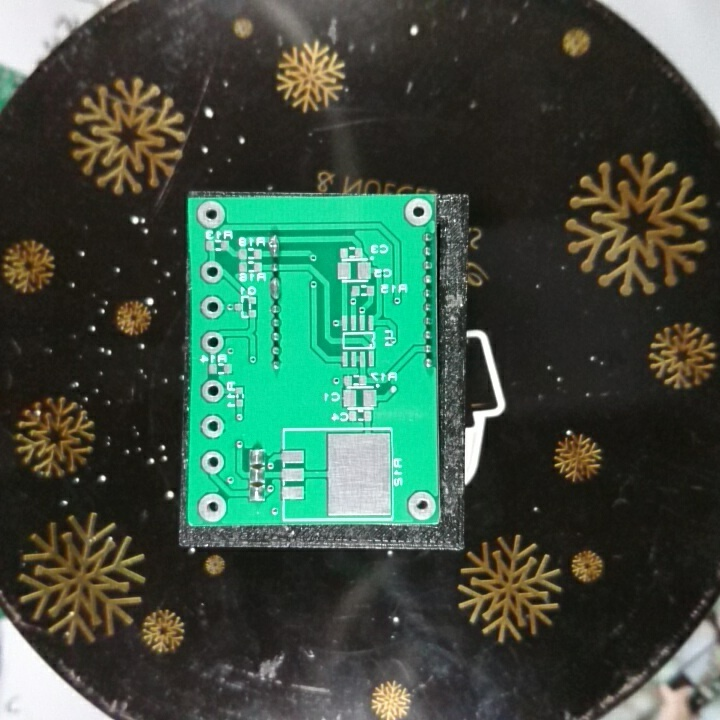F: (405, 489, 437, 523), (195, 199, 228, 230), (402, 195, 434, 226), (197, 492, 228, 523), (199, 411, 227, 439), (199, 446, 225, 474), (199, 295, 225, 322), (199, 258, 224, 286), (199, 378, 226, 403), (199, 329, 225, 353)
P: (269, 275, 285, 302), (268, 233, 282, 260)
